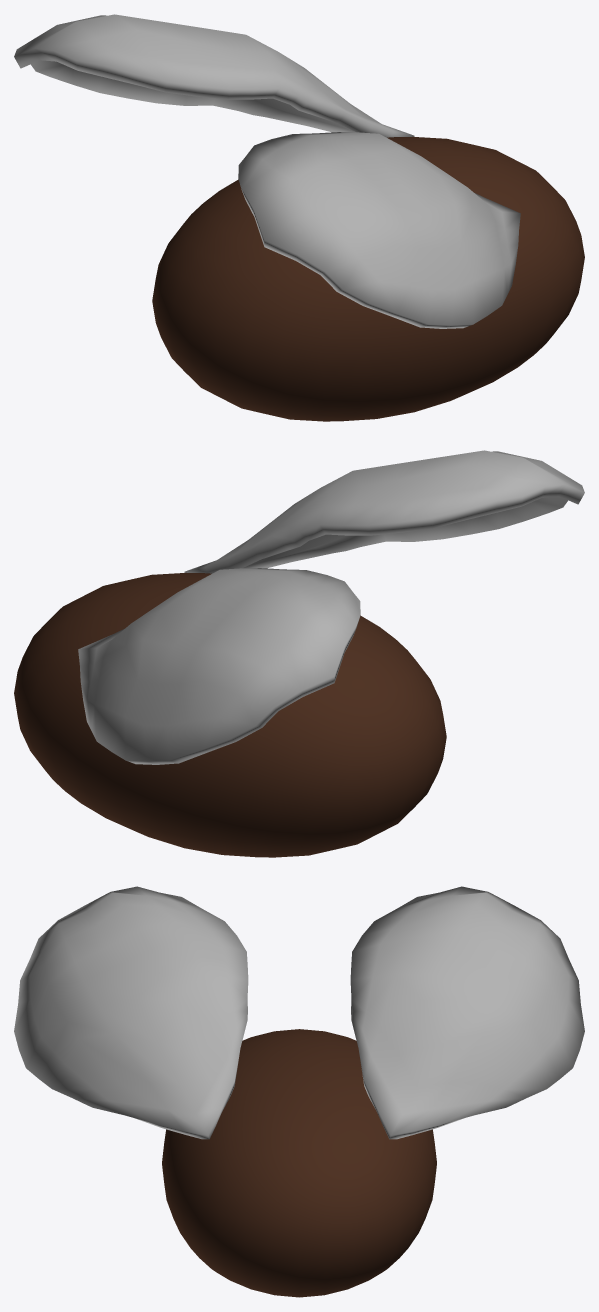
Rendered from Fly.fbx.
The picture shows the model from 3 angles, top to bottom: view 1: azimuth 30°, elevation 25°; view 2: azimuth 150°, elevation 25°; view 3: azimuth 270°, elevation 25°; orthographic projection. The views are drawn at different scales.
Visible parts, largest first — view 1: Plane; view 2: Plane; view 3: Plane.
Boxes of the visible parts, x1,y1,x2,y2 form: Plane: (14, 14, 584, 421); Plane: (14, 450, 584, 857); Plane: (14, 886, 584, 1297).
Bounding box in the file's own units: 228 × 175 × 306.
